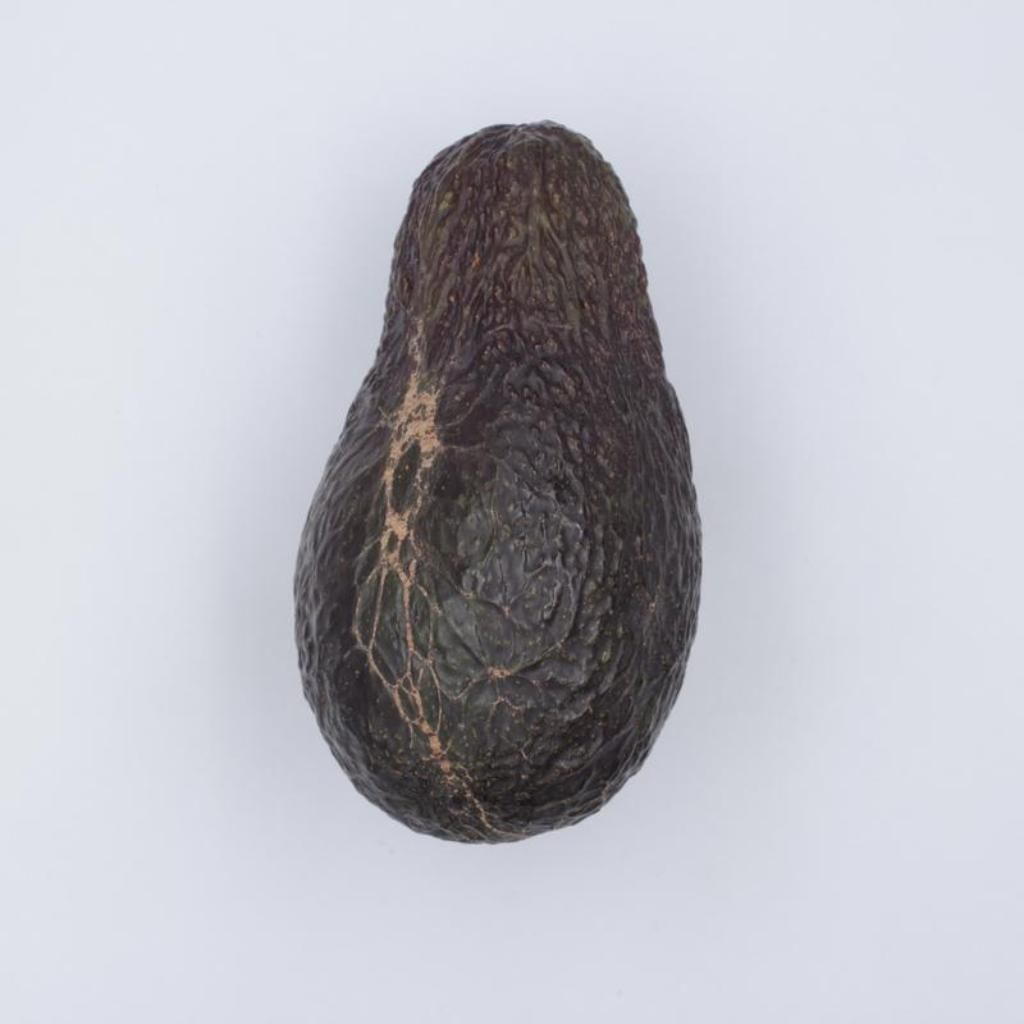rona: (296, 122, 700, 841)
